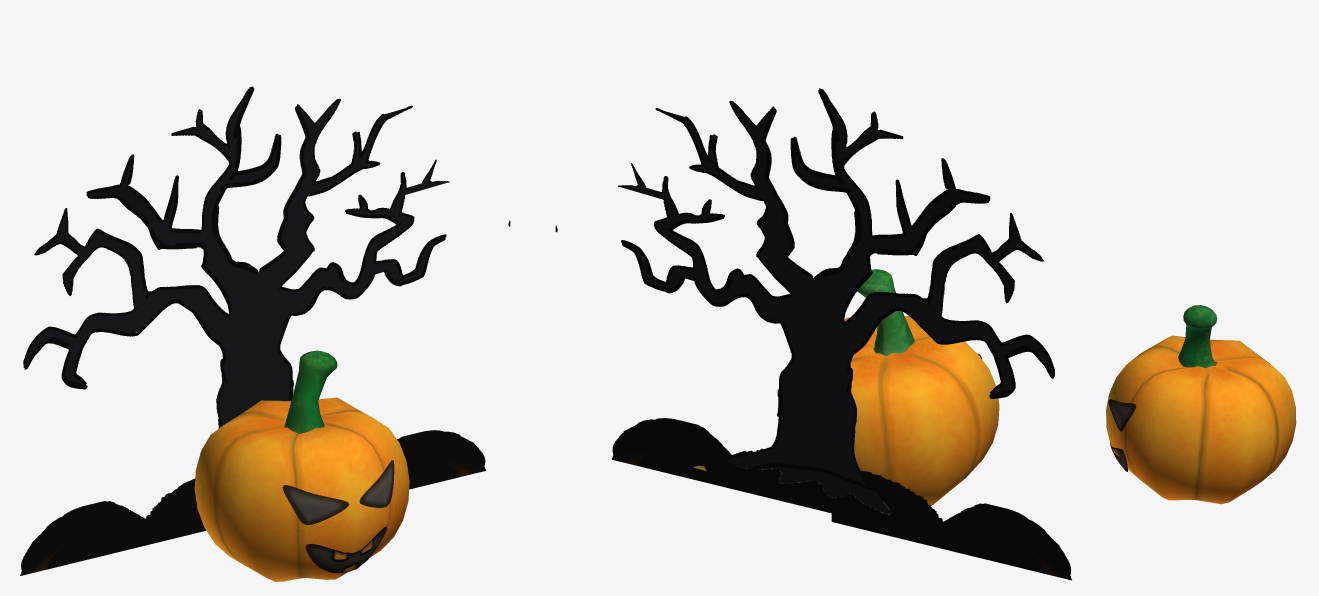
File: vampiro.glb
3 renders of one model, left to right at view 1: azimuth 30°, elevation 25°; view 2: azimuth 150°, elevation 25°; view 3: azimuth 270°, elevation 25°, orthographic. The views are drawn at different scales.
Visible parts, largest first — view 1: Plane.027, Cube.003, Plane.026, Cube, Plane.028; view 2: Plane.027, Cube.003, Plane.026, Plane.028, Cube; view 3: Cube.003, Cube.
Part boxes in pixels (x1,y1,x2,y2): Plane.027: [23, 86, 510, 488]; Cube.003: [194, 397, 409, 581]; Plane.026: [20, 480, 205, 575]; Cube: [282, 350, 394, 573]; Plane.028: [397, 430, 486, 489]; Plane.027: [555, 88, 1054, 515]; Cube.003: [844, 316, 999, 506]; Plane.026: [831, 470, 1071, 580]; Plane.028: [611, 418, 831, 513]; Cube: [857, 269, 982, 359]; Cube.003: [1106, 335, 1296, 504]; Cube: [1108, 305, 1217, 471].
Size of what is drawn, in the model's own units: 3.07 by 2.59 by 1.17.
Materials: 2 (2 with a texture image).
